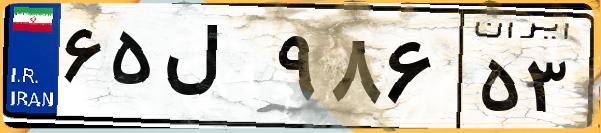3: (525, 38, 570, 115)
5: (475, 38, 525, 113), (110, 28, 158, 98)
6: (385, 28, 445, 110), (57, 26, 110, 100)
8: (330, 28, 385, 110)
9: (270, 28, 330, 110)
ل: (158, 20, 270, 120)
